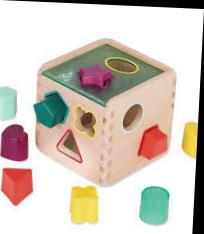cube: (33, 35, 178, 186)
